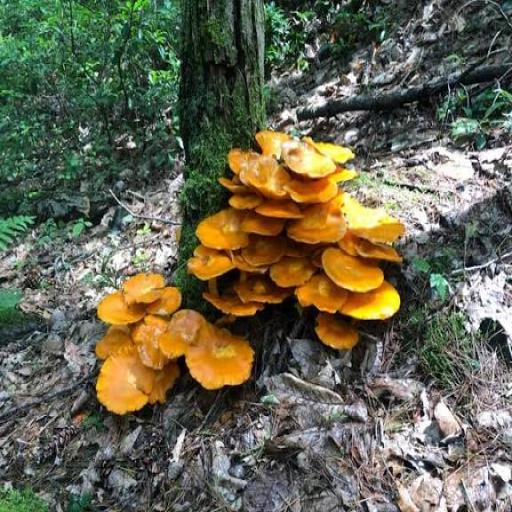Jack O Lantern Mushroom: (90, 341, 174, 413), (177, 323, 258, 391), (275, 135, 346, 188), (322, 245, 389, 301), (170, 250, 248, 294), (289, 197, 349, 250), (222, 267, 290, 313), (228, 145, 287, 196), (337, 281, 399, 327), (193, 203, 255, 249), (310, 311, 360, 356), (117, 268, 171, 307), (240, 245, 288, 274), (274, 257, 311, 285)
